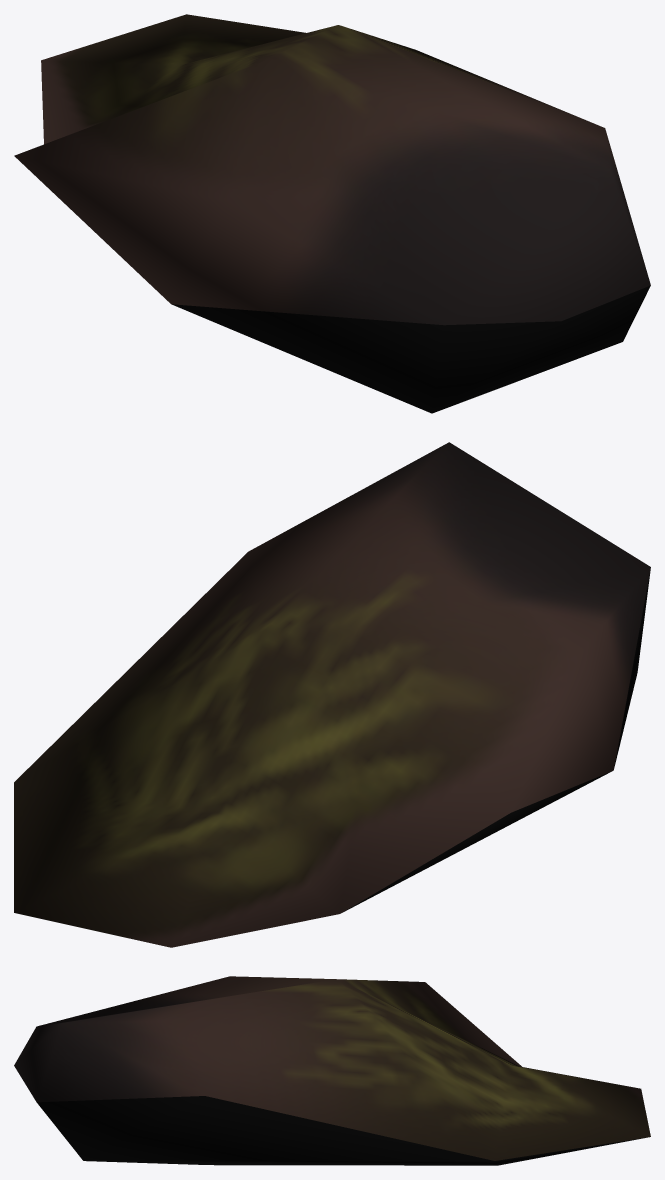
The model's file is SM_RockLagoon_05.fbx.
The picture shows the model from 3 angles, top to bottom: view 1: azimuth 30°, elevation 25°; view 2: azimuth 150°, elevation 25°; view 3: azimuth 270°, elevation 25°; orthographic projection. The views are drawn at different scales.
Visible parts, largest first — view 1: Esfera.007; view 2: Esfera.007; view 3: Esfera.007.
Boxes of the visible parts, <box> form: Esfera.007: <box>14,14,650,413</box>; Esfera.007: <box>14,442,650,947</box>; Esfera.007: <box>14,976,650,1165</box>.
Bounding box in the file's own units: 2.32 × 1.14 × 4.16.
Materials: 1 (1 with a texture image).
